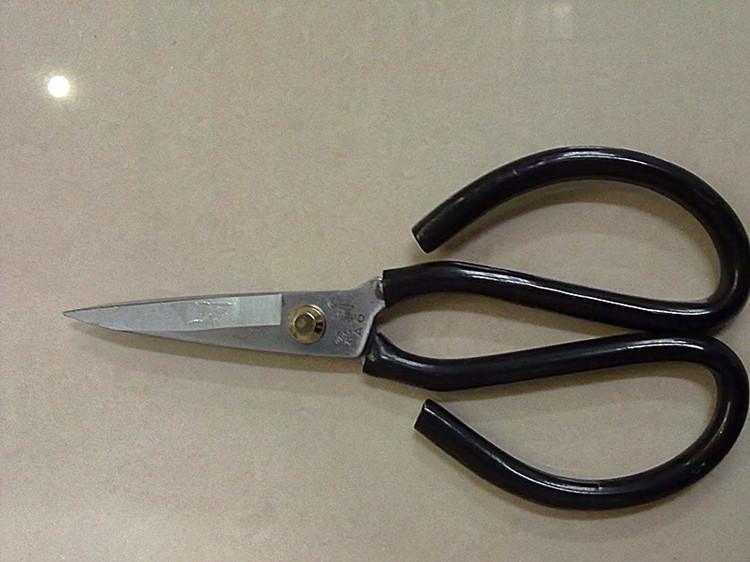scissor: (85, 130, 707, 529)
